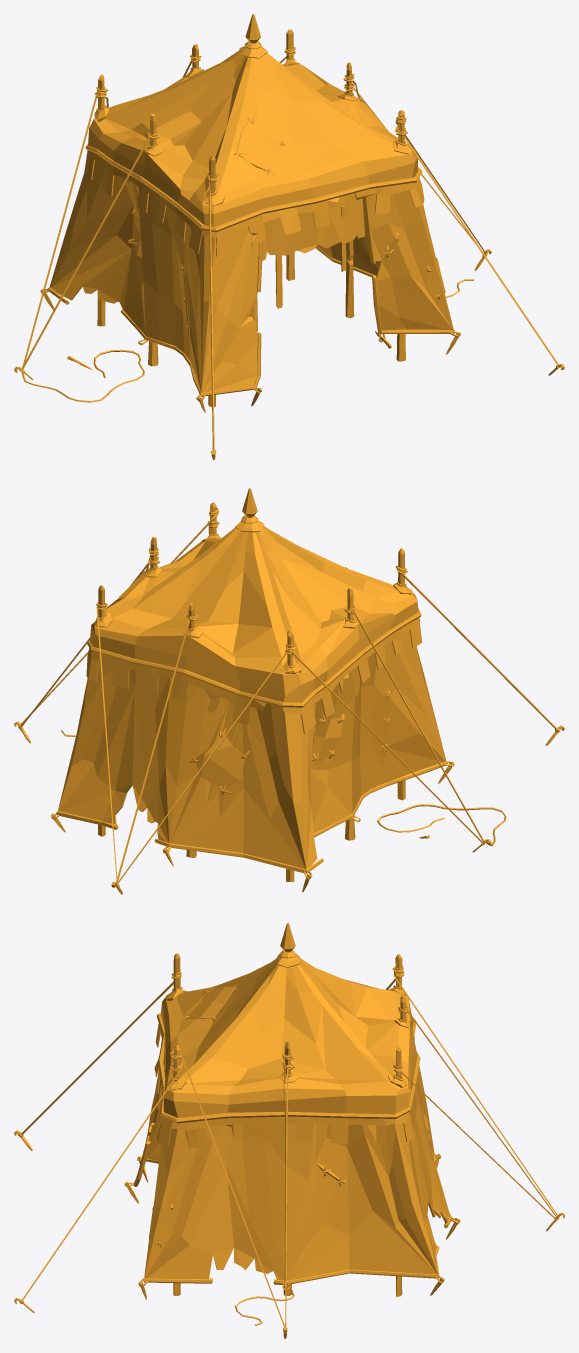
The model's file is SM_Tent_Angular_Plain_Repaired_Fantasy.fbx.
The picture shows the model from 3 angles, top to bottom: view 1: azimuth 30°, elevation 25°; view 2: azimuth 150°, elevation 25°; view 3: azimuth 270°, elevation 25°; orthographic projection.
Visible parts, largest first — view 1: tent-angular-plain-repaired-fantasy; view 2: tent-angular-plain-repaired-fantasy; view 3: tent-angular-plain-repaired-fantasy.
Part boxes in pixels (x1,y1,x2,y2): tent-angular-plain-repaired-fantasy: [14, 14, 564, 459]; tent-angular-plain-repaired-fantasy: [14, 488, 564, 894]; tent-angular-plain-repaired-fantasy: [14, 923, 564, 1338].
Bounding box in the file's own units: 8.06 × 5.31 × 8.11.
